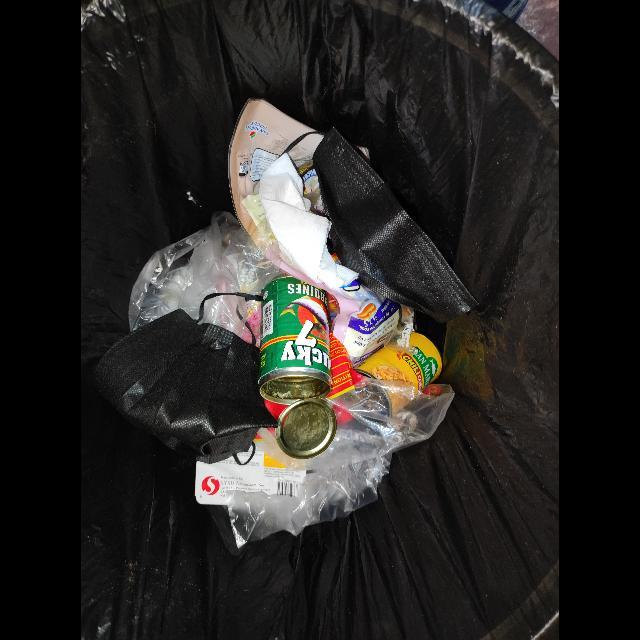metal: (259, 277, 337, 459), (354, 332, 443, 413)
paper: (259, 153, 359, 289)
plastic: (128, 211, 291, 348), (305, 334, 456, 470), (226, 453, 392, 549)
wrapper: (229, 97, 413, 397), (195, 443, 307, 506)
